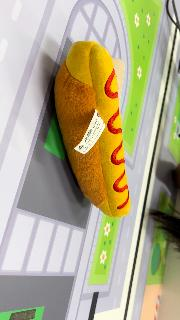hotdog: (54, 40, 132, 218)
